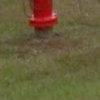Hydrant: (21, 1, 66, 46)
